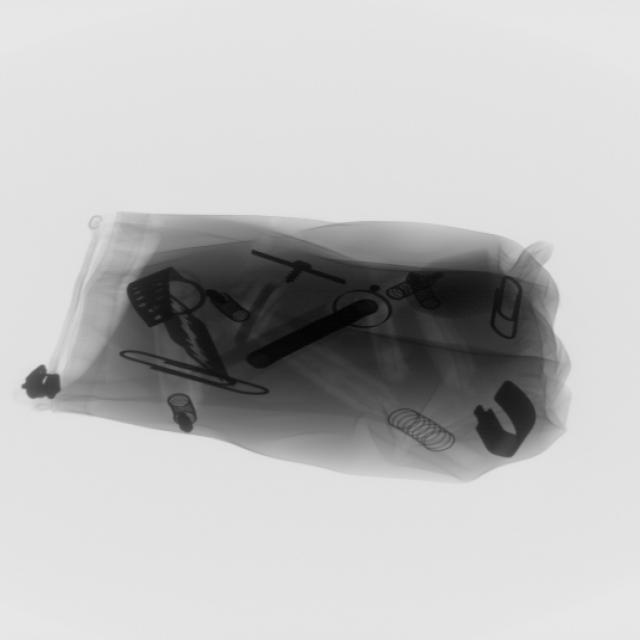BLADE: (134, 301, 249, 389)
